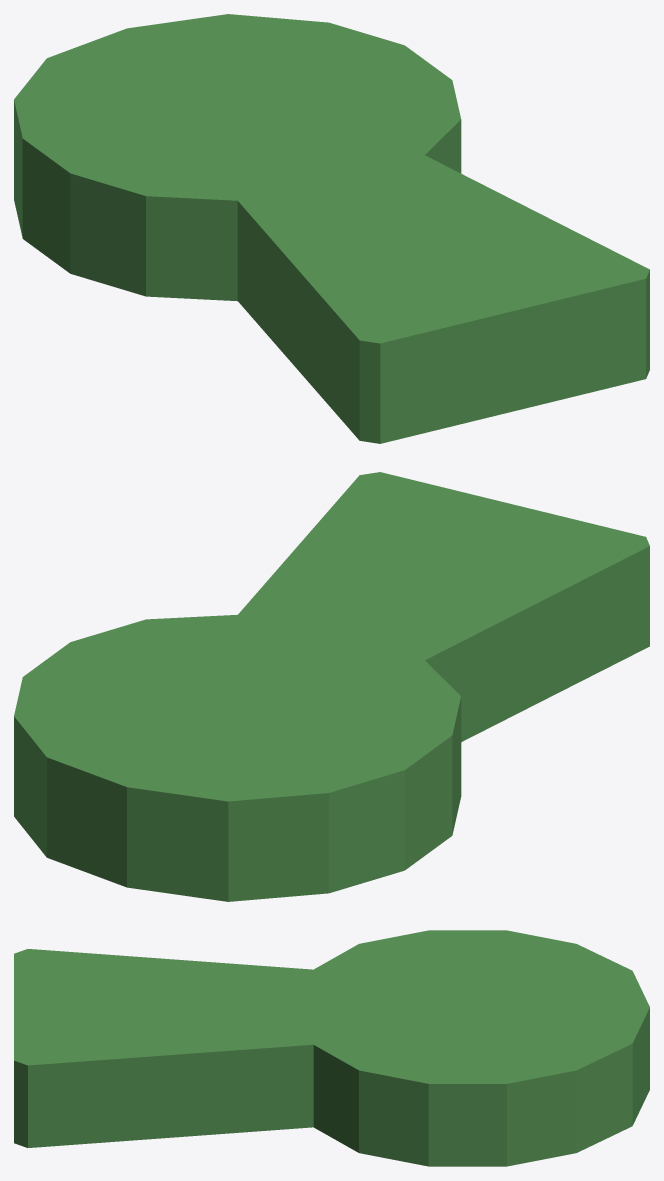
Rendered from icon_puerta_verde.fbx.
3 views of the same model, one above another, from view 1: azimuth 30°, elevation 25°; view 2: azimuth 150°, elevation 25°; view 3: azimuth 270°, elevation 25° (orthographic). The views are drawn at different scales.
Visible parts, largest first — view 1: Icono_puerta_verde; view 2: Icono_puerta_verde; view 3: Icono_puerta_verde.
Part boxes in pixels (x1,y1,x2,y2): Icono_puerta_verde: (14, 14, 649, 443); Icono_puerta_verde: (14, 472, 649, 901); Icono_puerta_verde: (14, 930, 649, 1166).
Bounding box in the file's own units: 42.96 × 10.79 × 75.24.
